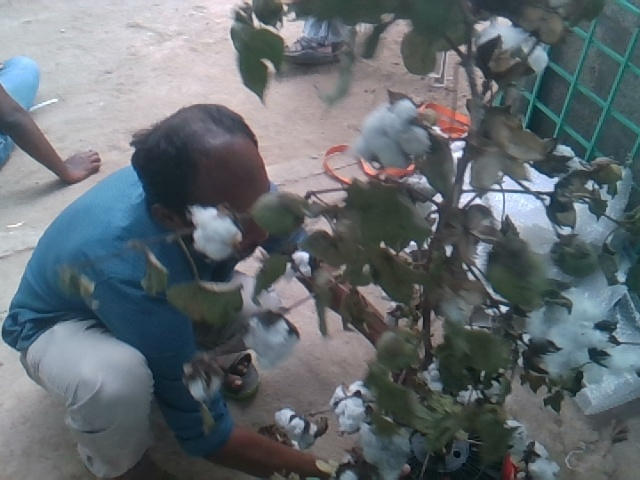cotton: (360, 101, 428, 169), (187, 202, 242, 254), (358, 430, 408, 467), (334, 396, 366, 436)
